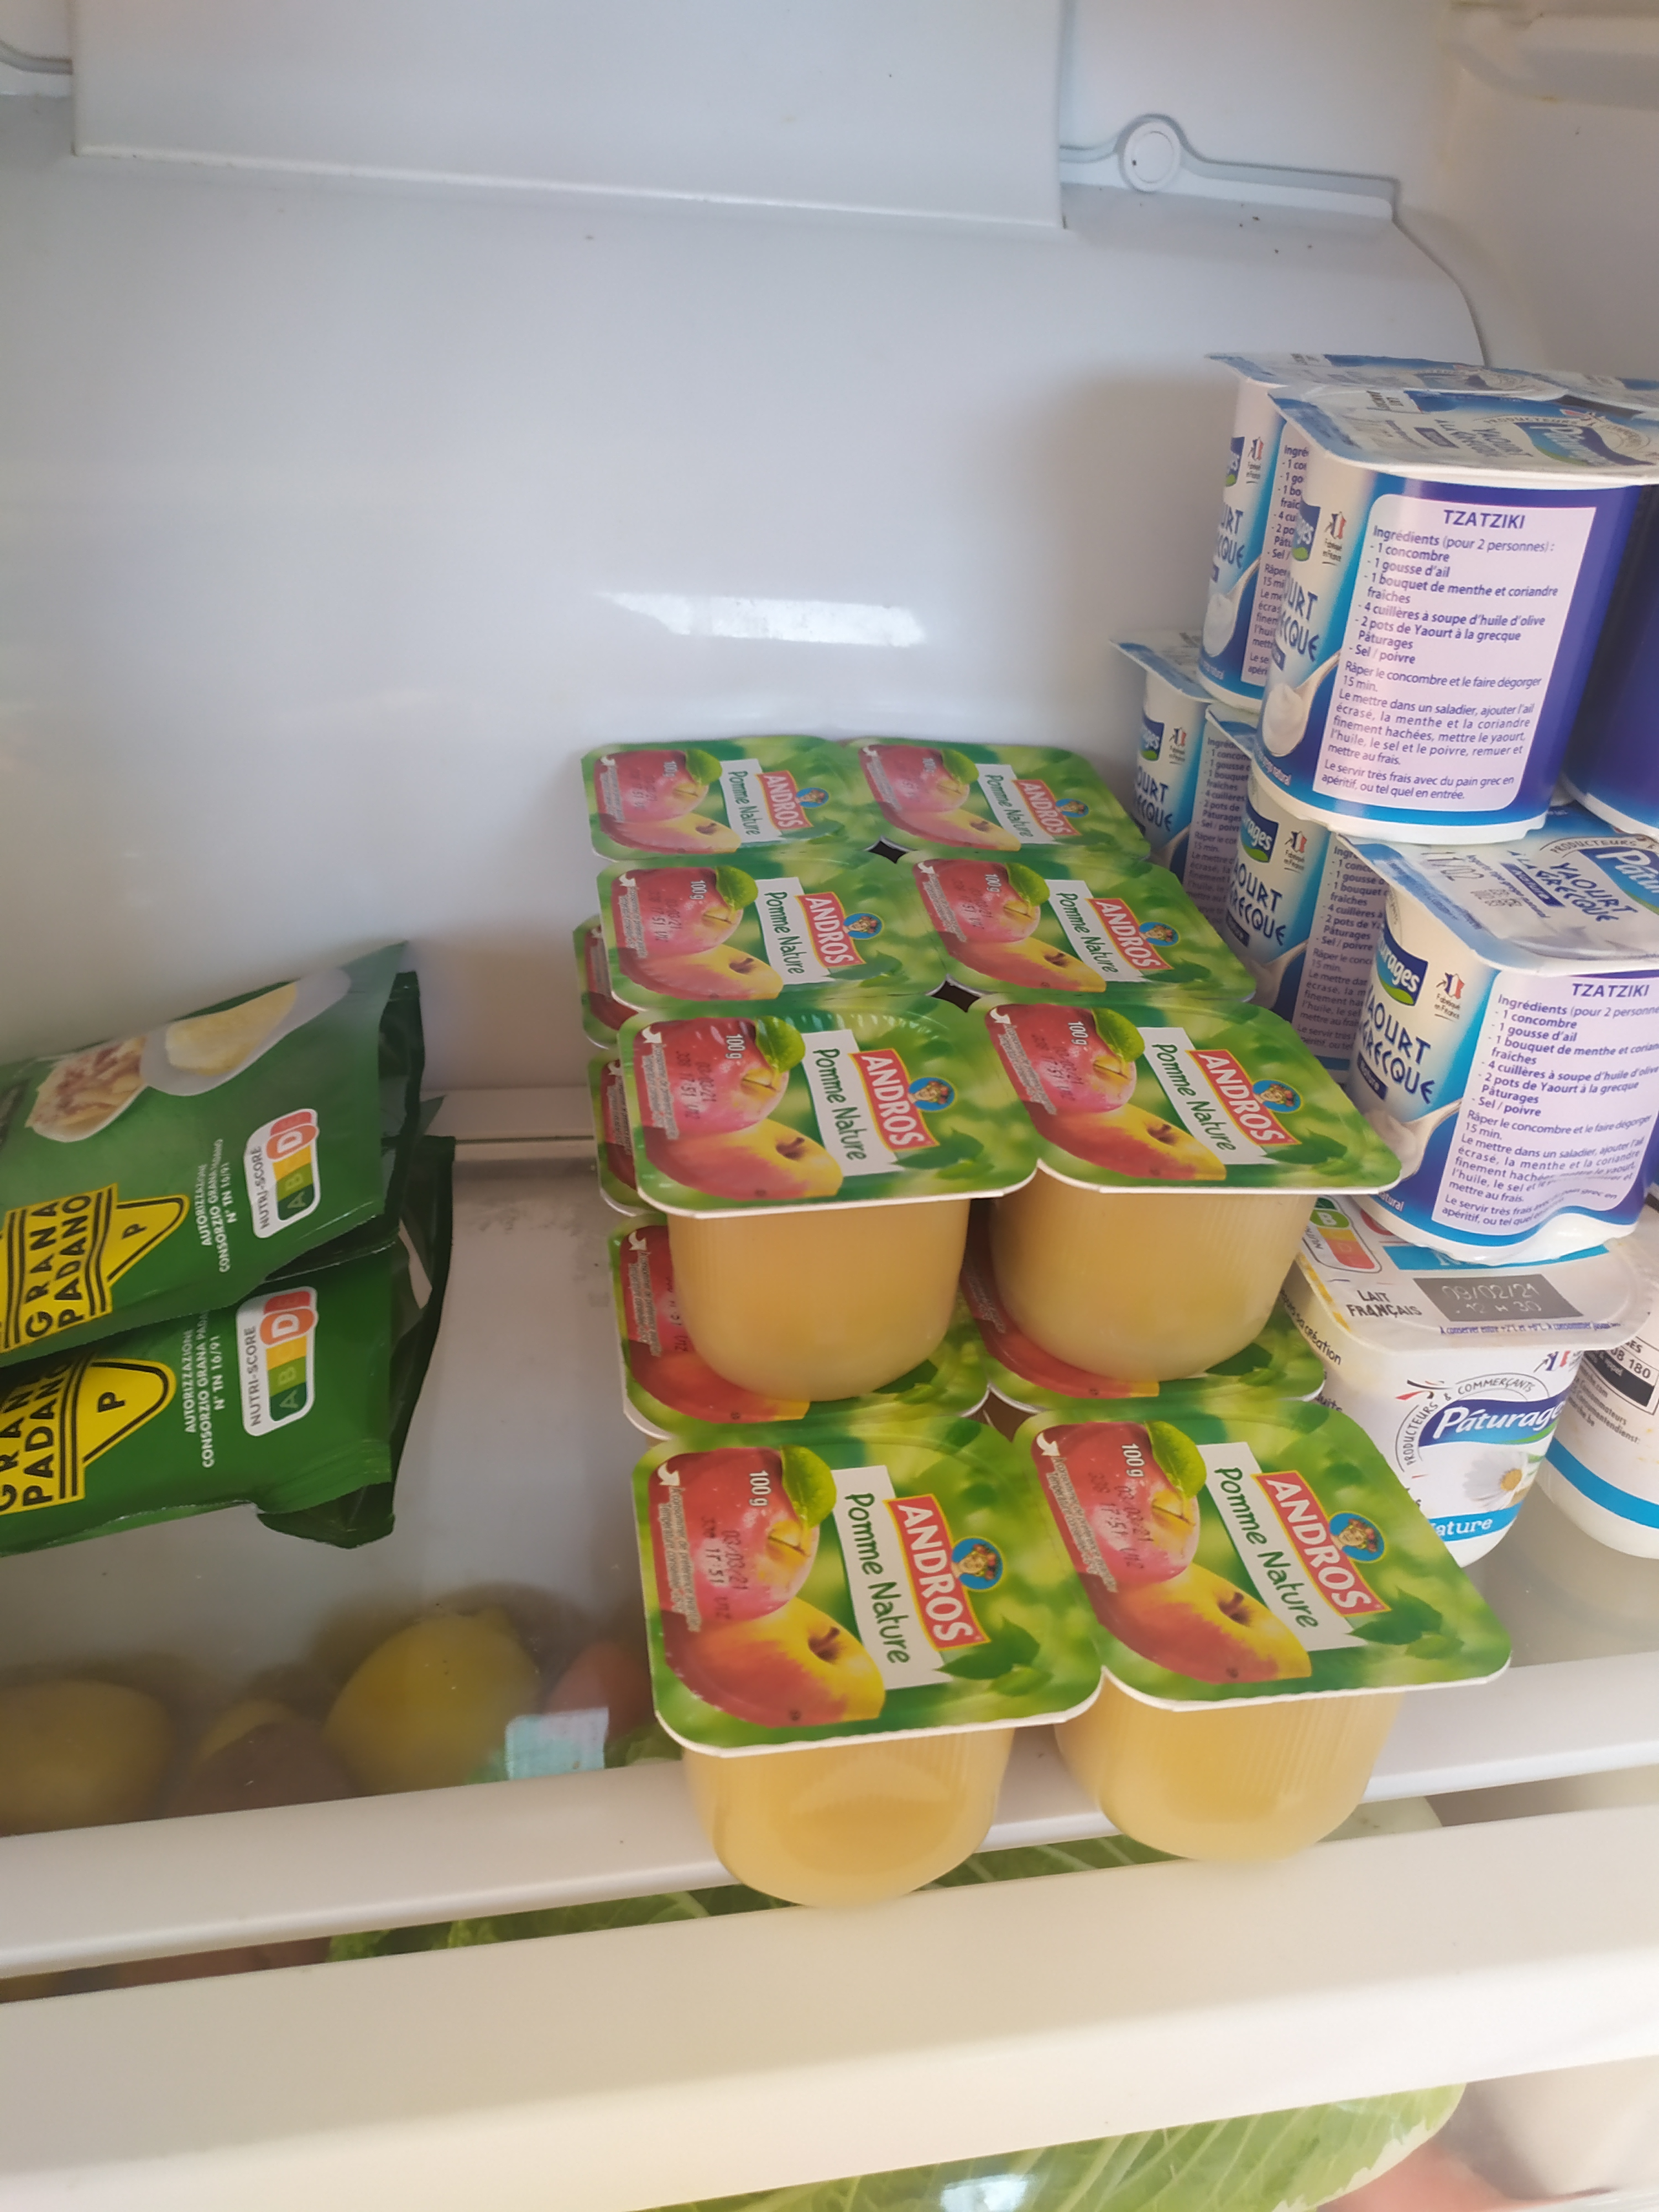compote: (622, 1433, 1098, 1911), (1018, 1399, 1500, 1855), (622, 1001, 1040, 1397), (971, 986, 1384, 1372), (606, 1207, 997, 1454), (960, 1226, 1328, 1430), (906, 845, 1262, 1008), (594, 855, 946, 1008), (864, 726, 1157, 864), (586, 735, 884, 869), (586, 1055, 657, 1240), (572, 920, 627, 1069)
lemon: (312, 1594, 559, 1804)
yoghurt: (1256, 385, 1659, 850), (1286, 1146, 1635, 1564), (1222, 719, 1608, 1090), (1201, 343, 1558, 737), (1340, 848, 1659, 1270), (1534, 1195, 1659, 1554), (1563, 385, 1659, 848), (1114, 634, 1241, 911)
